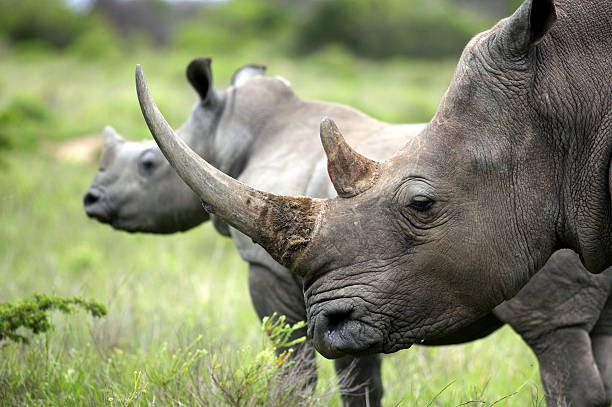rhino: (129, 9, 612, 363)
